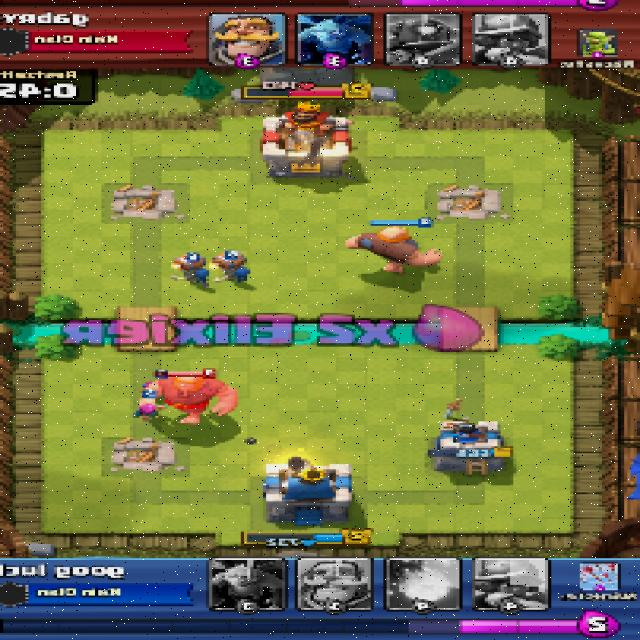Enemy-Giant: (145, 372, 236, 425)
Player-Archer: (133, 403, 166, 419), (141, 378, 165, 395)
Player-Giant: (344, 228, 442, 274)
Player-Wallbreaker: (209, 250, 251, 283), (173, 253, 209, 286)
